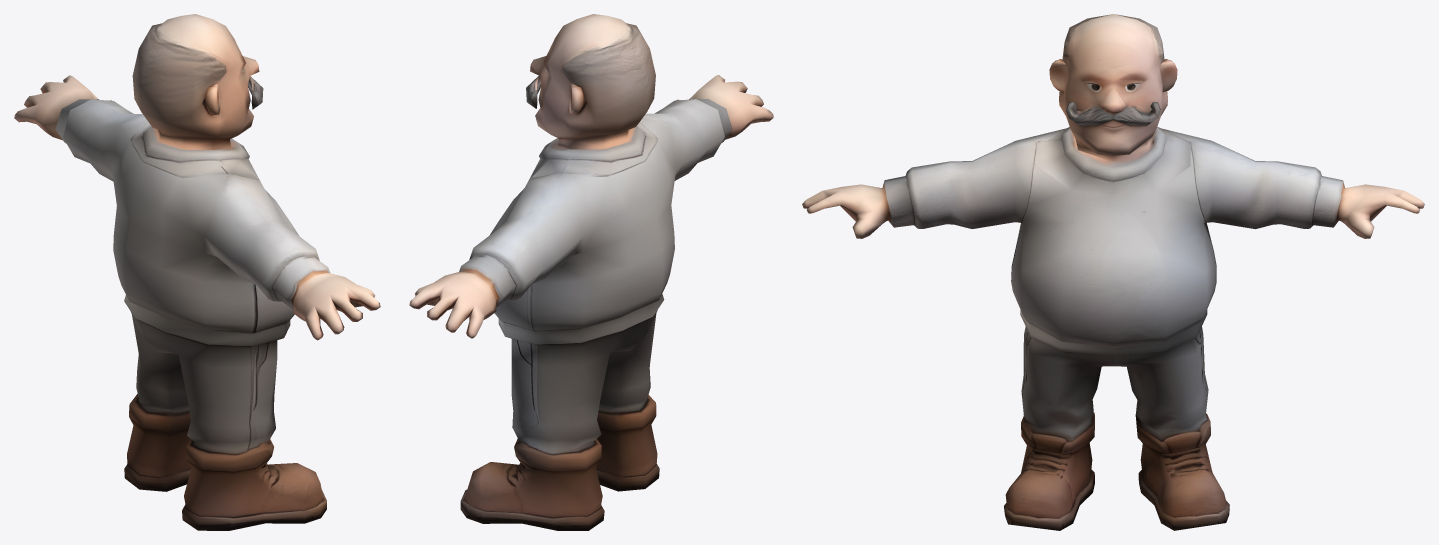
The picture shows the model from 3 angles, left to right: view 1: azimuth 30°, elevation 25°; view 2: azimuth 150°, elevation 25°; view 3: azimuth 270°, elevation 25°; orthographic projection.
Parts seen in each view (by area): view 1: tripo_node_7caa0e54-cd4e-4461-8b50-f477728fd7f9; view 2: tripo_node_7caa0e54-cd4e-4461-8b50-f477728fd7f9; view 3: tripo_node_7caa0e54-cd4e-4461-8b50-f477728fd7f9.
Boxes of the visible parts, x1,y1,x2,y2 form: tripo_node_7caa0e54-cd4e-4461-8b50-f477728fd7f9: [14, 14, 380, 530]; tripo_node_7caa0e54-cd4e-4461-8b50-f477728fd7f9: [409, 14, 773, 530]; tripo_node_7caa0e54-cd4e-4461-8b50-f477728fd7f9: [802, 14, 1424, 530].
Bounding box in the file's own units: 0.3052 × 0.8354 × 0.9995.
Materials: 1 (1 with a texture image).
